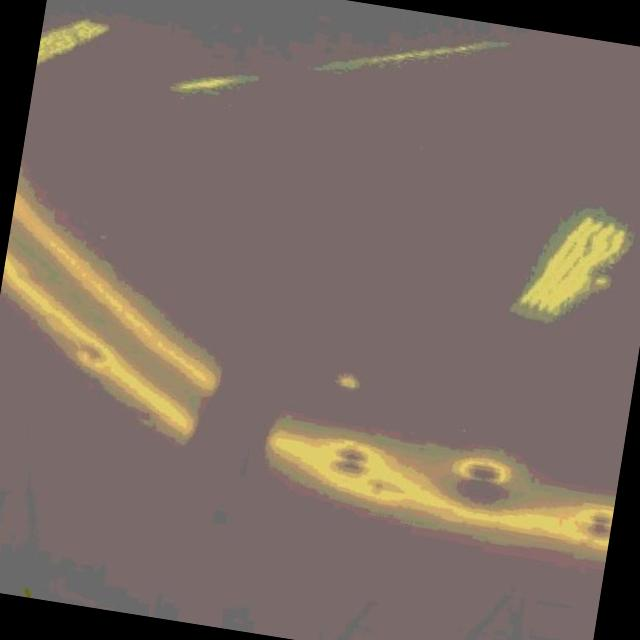dent: (458, 456, 514, 490), (578, 506, 614, 544), (333, 445, 370, 479), (78, 343, 107, 369), (335, 370, 362, 391), (368, 478, 392, 496)
